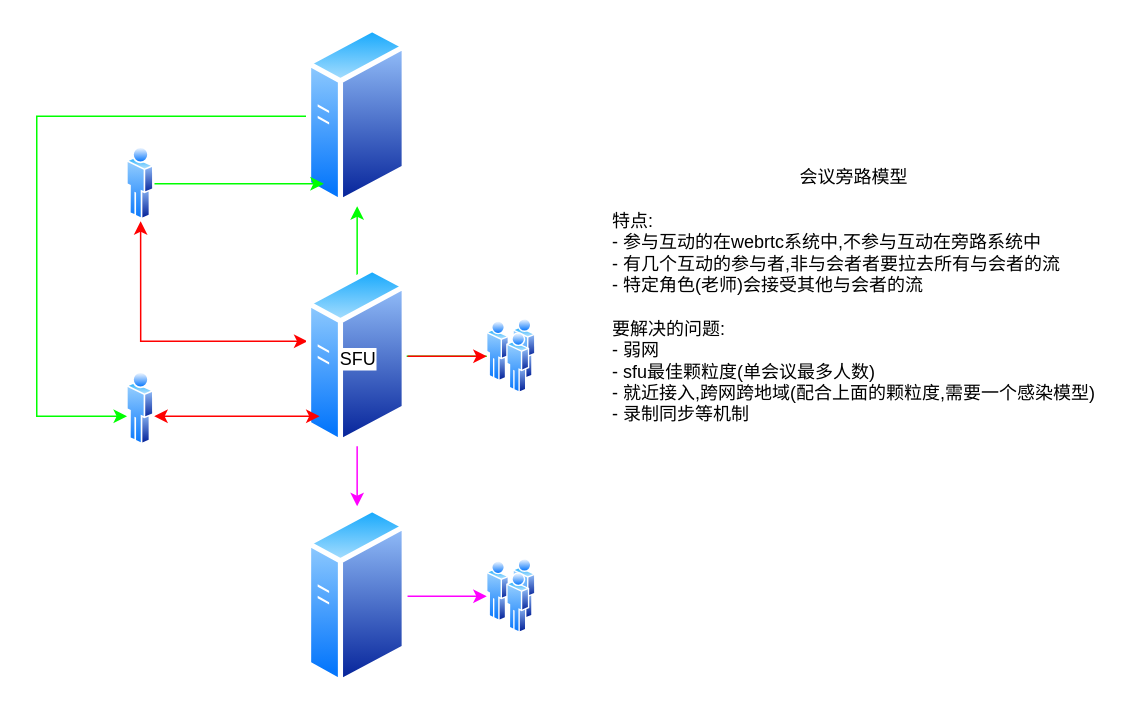
This 1128x711 diagram has some shape labels left out. Here are the shapes that lost their labels. From the top down, the centre of each, then its label:
point 356,116: 合成
point 356,596: 旁路
